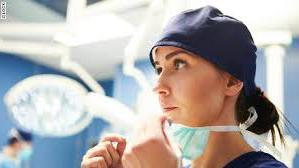mask_weared_incorrect: (145, 52, 209, 147)
with_mask: (15, 138, 33, 161)
